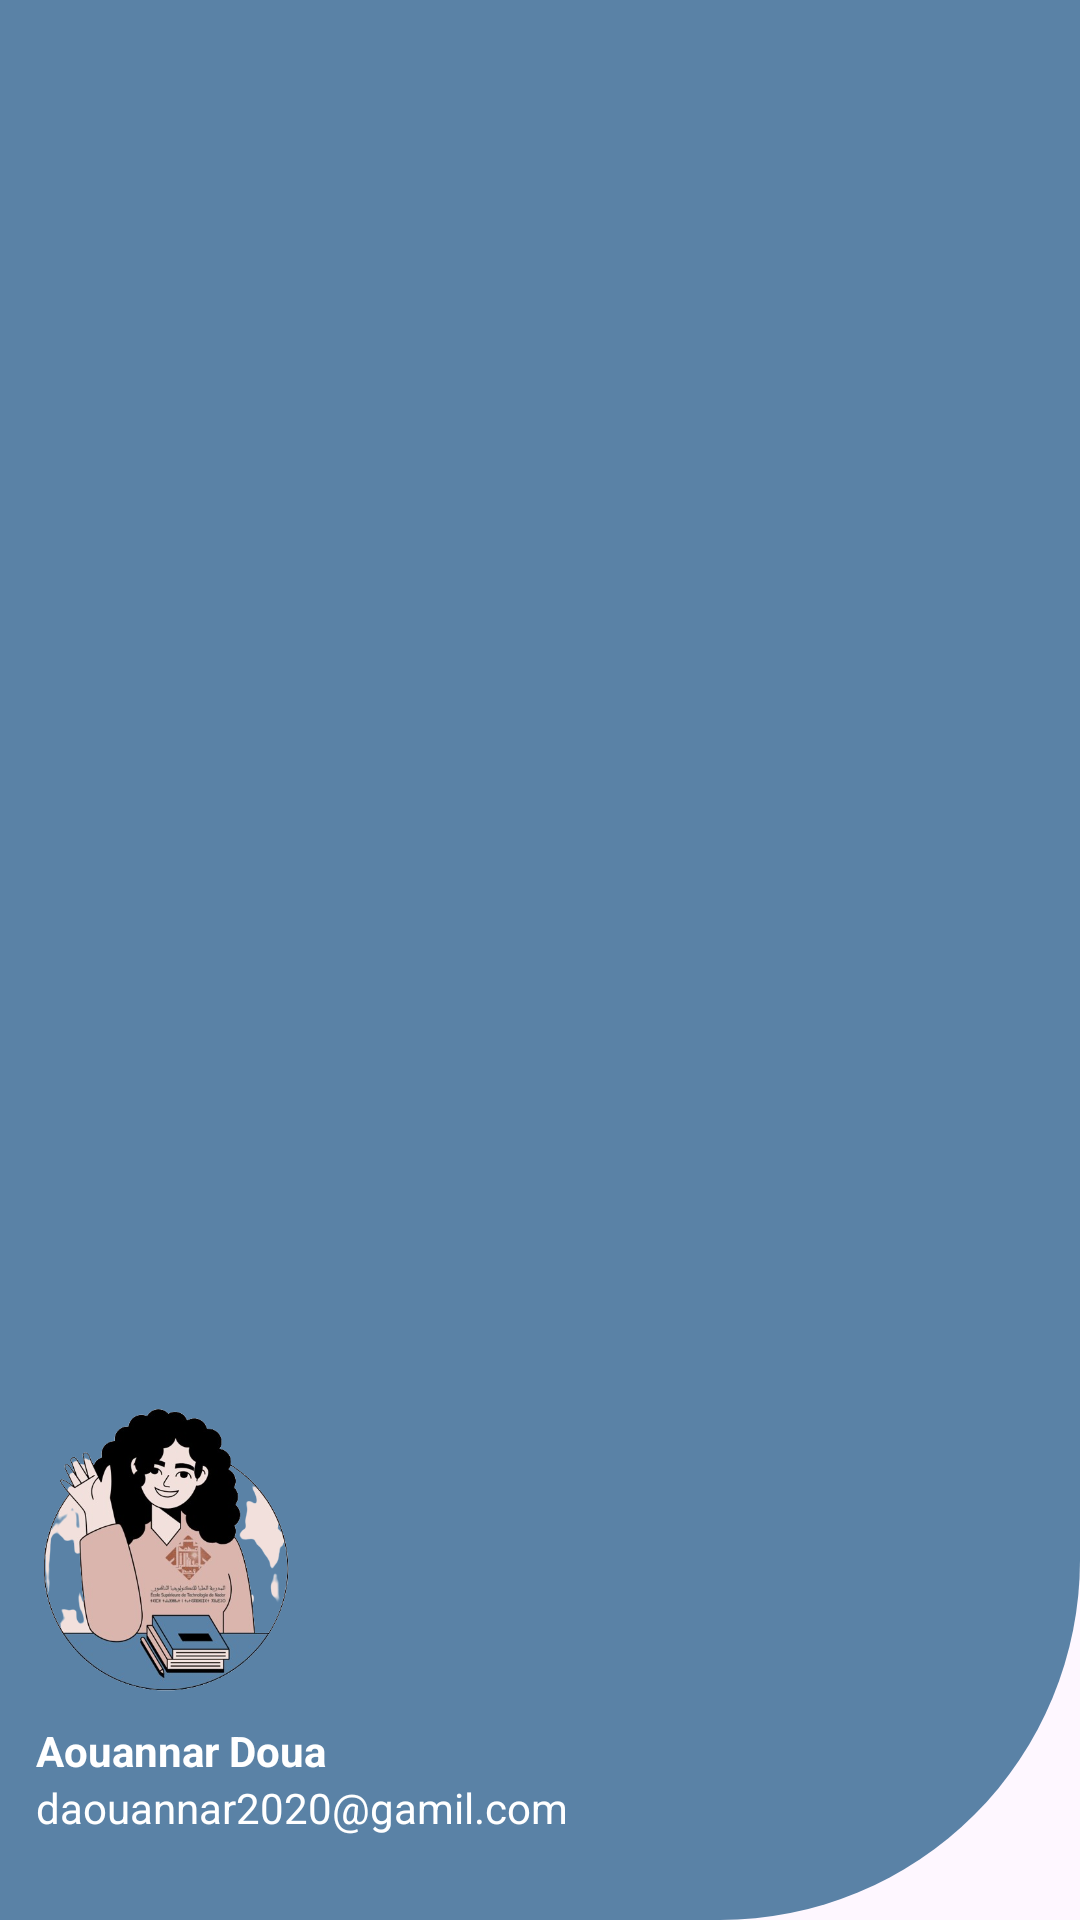

Where icons sit on this 1080 x 1920 app screen, as bbox(x1, y1, x2, y2):
student: bbox(44, 1409, 288, 1691)
